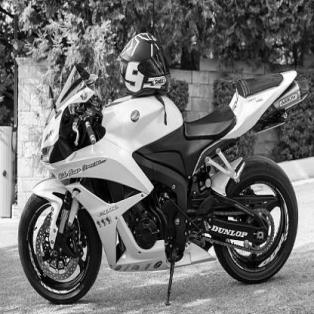Motocicleta: (17, 30, 308, 305)
